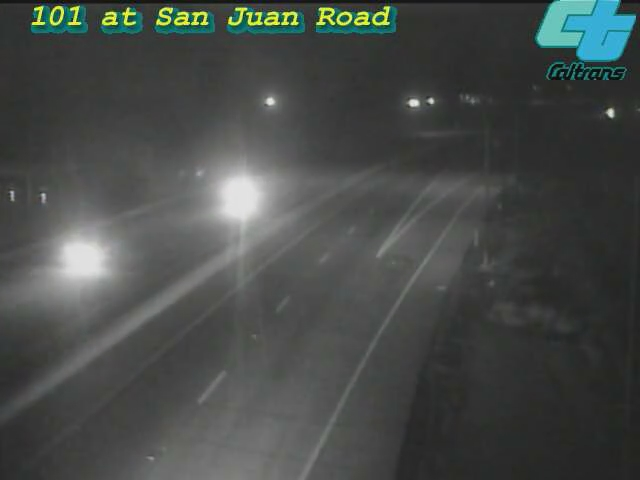vehicle: (42, 217, 122, 297), (190, 160, 270, 240), (582, 87, 632, 137)
